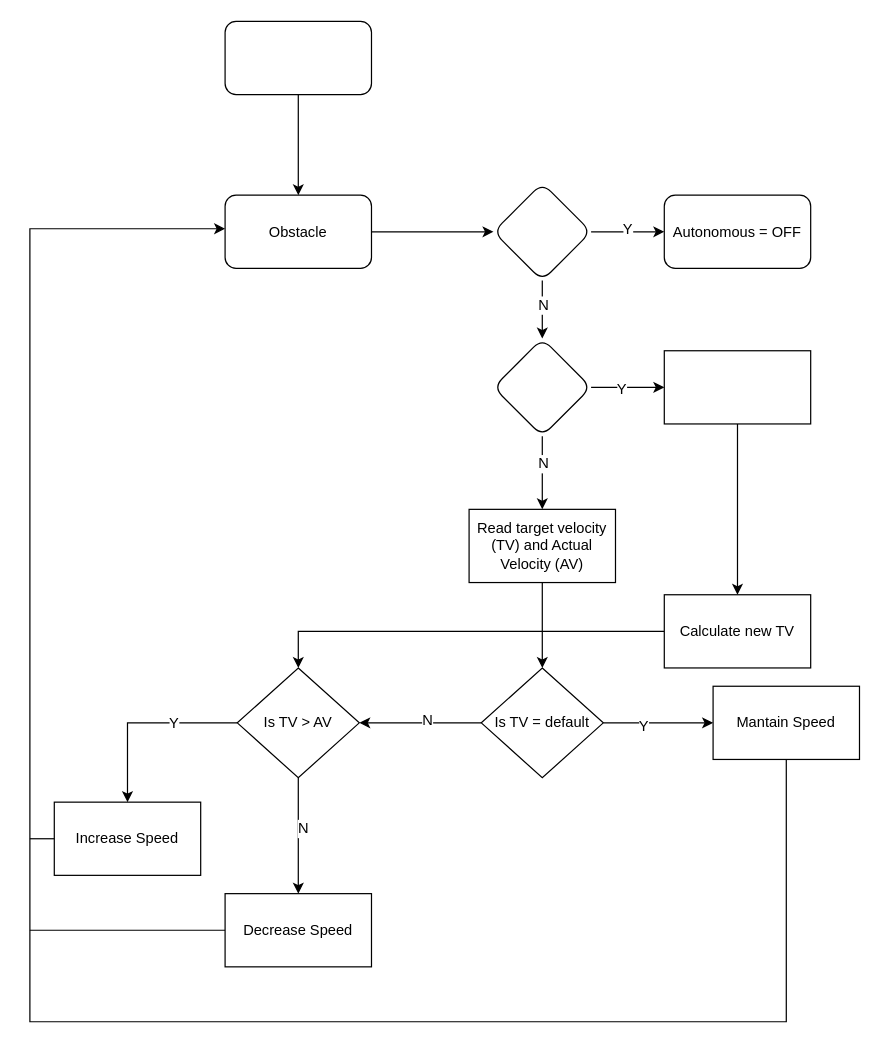
Some shapes in this 881 by 1053 pixel diagram are drawn without their labels. The shapes that lost their labels are listed below. From the top down, each one's box as (x1, y1, x2, y2) in pixels, then its label:
(224, 20, 371, 95): Autonomous = ON
(492, 182, 591, 281): Break/Manual acceleration
(492, 337, 591, 436): Object in front?
(663, 350, 811, 424): Receive delta distance from LIDAR
